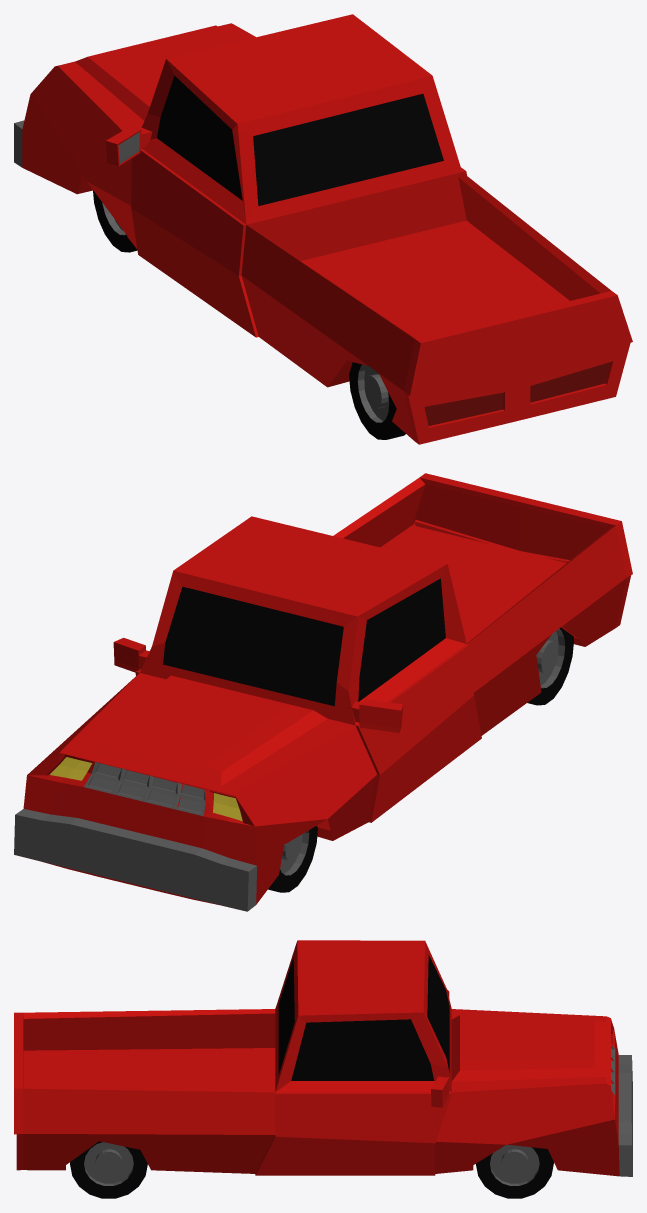
File: LowPolyTruck.obj
The picture shows the model from 3 angles, top to bottom: view 1: azimuth 30°, elevation 25°; view 2: azimuth 150°, elevation 25°; view 3: azimuth 270°, elevation 25°; orthographic projection. The views are drawn at different scales.
Visible parts, largest first — view 1: Truck; view 2: Truck; view 3: Truck.
Part boxes in pixels (x1,y1,x2,y2): Truck: (14, 14, 632, 444); Truck: (14, 473, 632, 911); Truck: (14, 940, 632, 1198).
Bounding box in the file's own units: 2.9 × 2.27 × 6.88.
